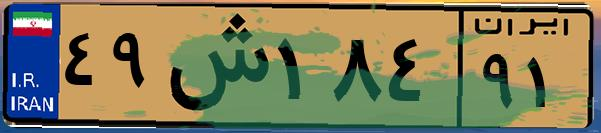1: (270, 28, 330, 110), (525, 38, 570, 115)
4: (385, 28, 445, 110), (57, 26, 110, 100)
8: (330, 28, 385, 110)
9: (475, 38, 525, 113), (110, 28, 158, 98)
ش: (158, 12, 270, 120)
